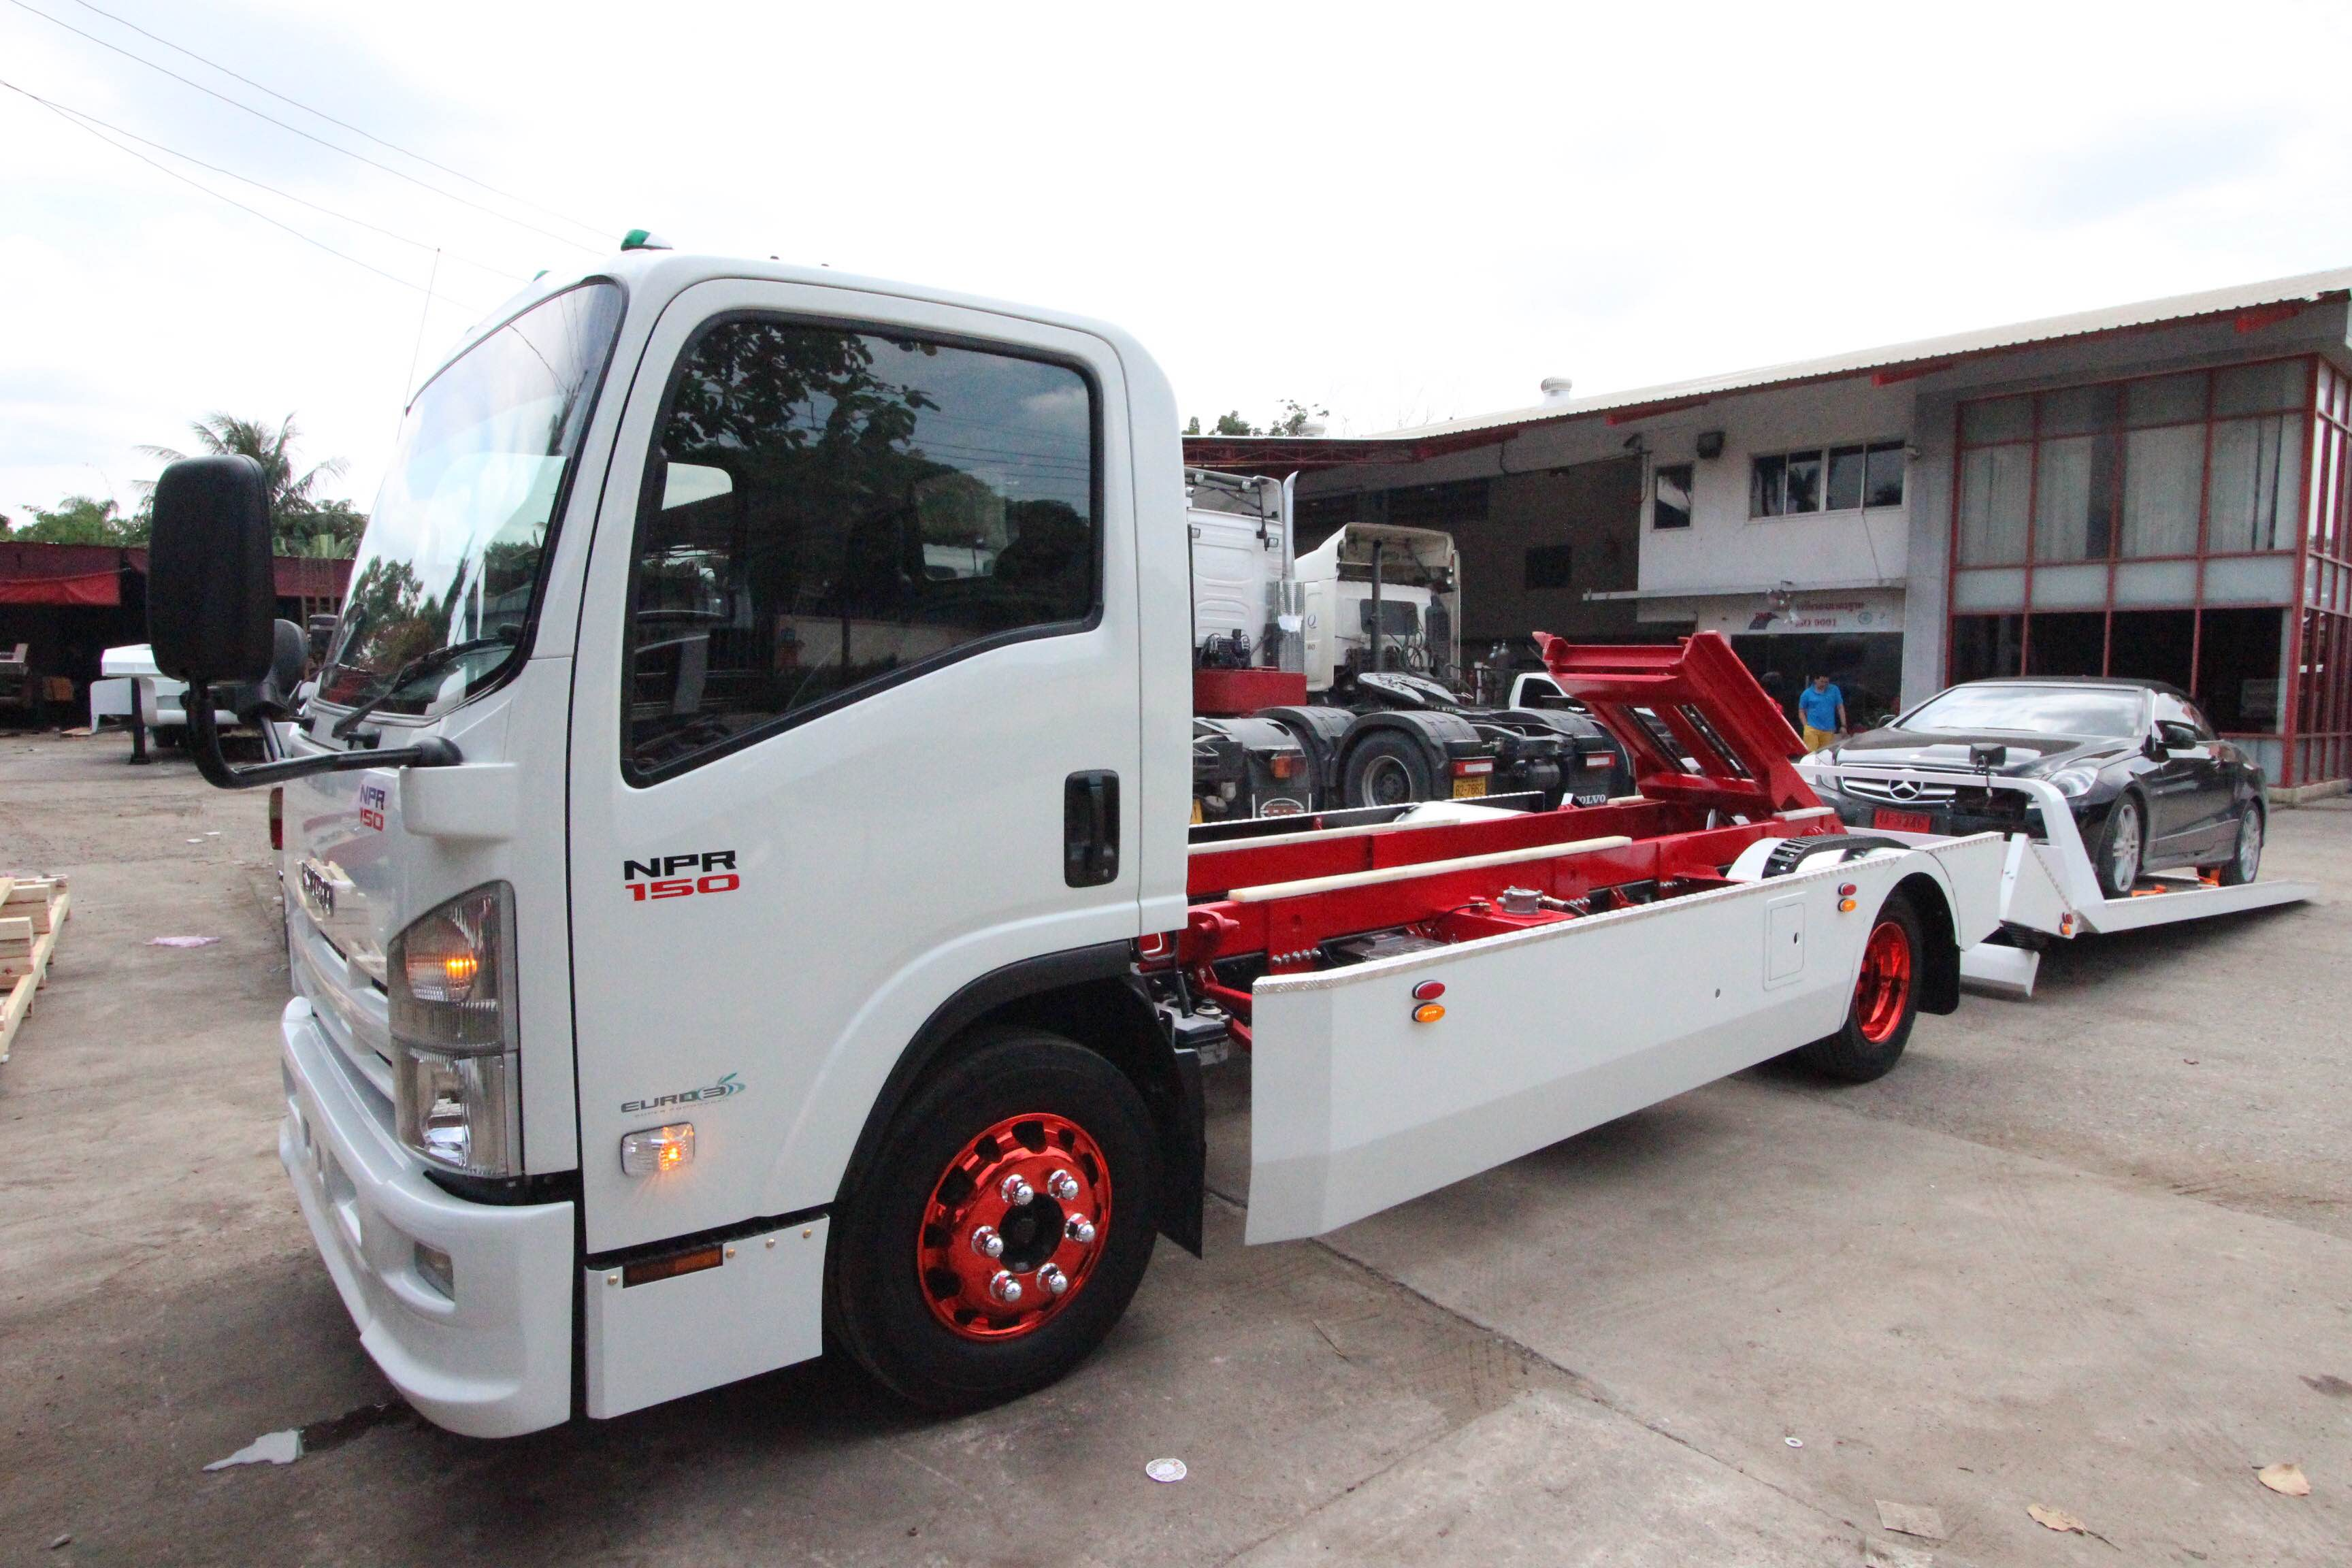truck: (257, 243, 2007, 1421)
